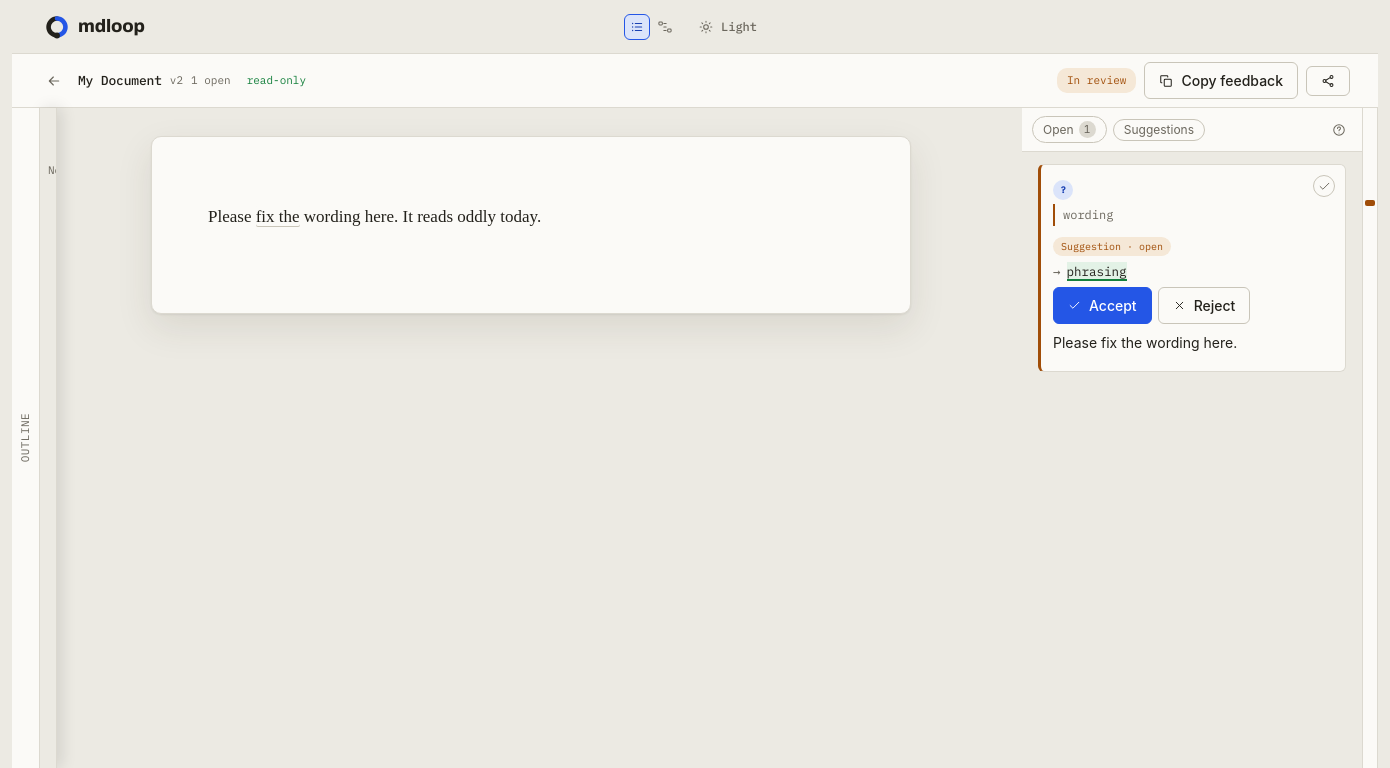
Test: Viewer — API error copy › keeps the suggestion-gate wording now that it comes from the shared map
Click the button "Accept": (1102, 305) 1053,287 -> 1152,324
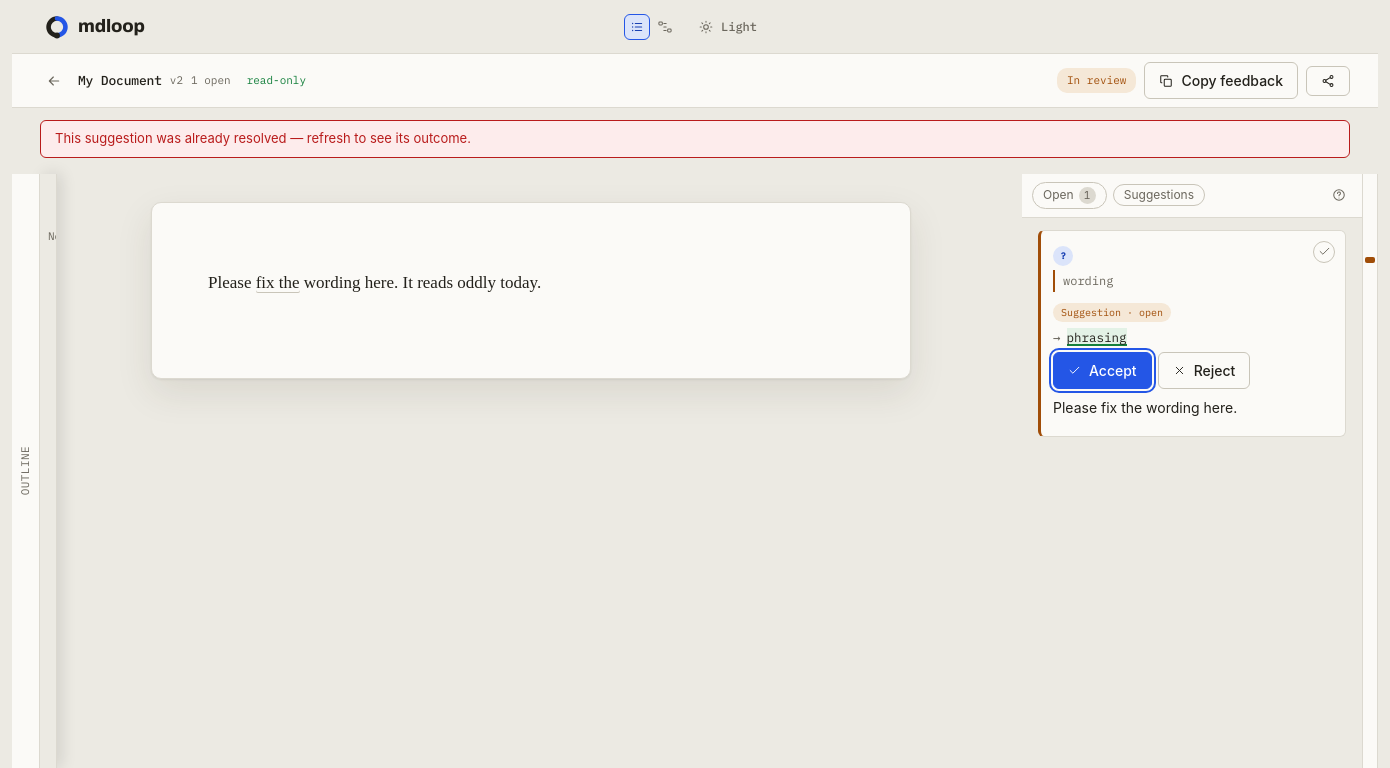
Check: the text "This suggestion was already resolved — refresh to see its outcome." is shown, box 40,120 -> 1350,158
